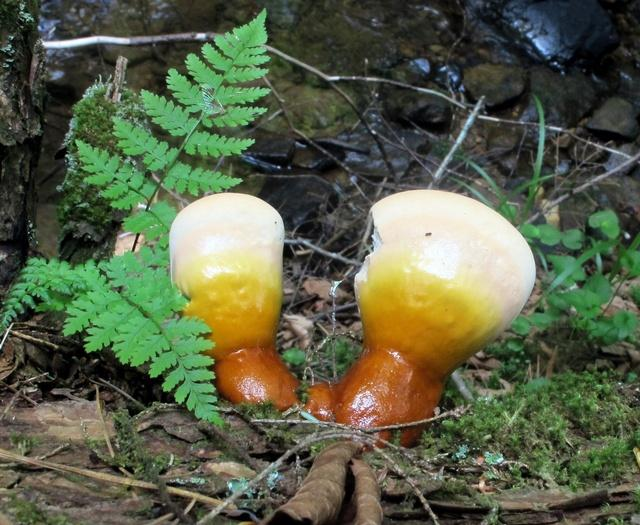poisonous_mushroom: (301, 187, 536, 450), (166, 190, 301, 411)
